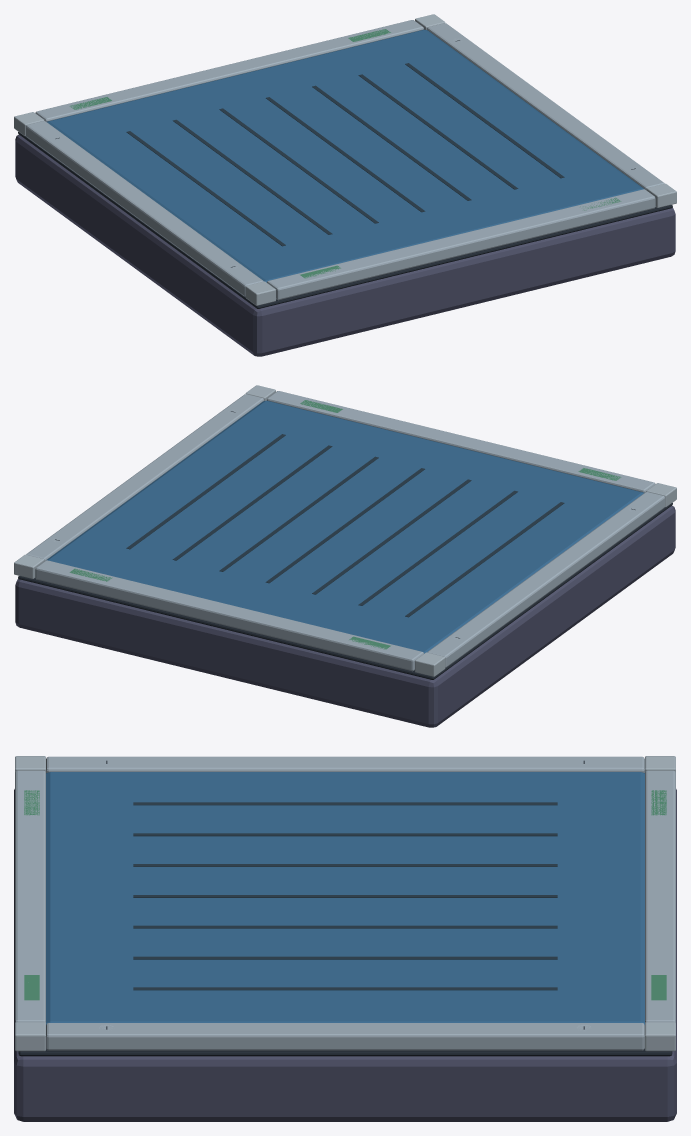
The model's file is platform.glb.
3 views of the same model, one above another, from view 1: azimuth 30°, elevation 25°; view 2: azimuth 150°, elevation 25°; view 3: azimuth 270°, elevation 25° (orthographic). The views are drawn at different scales.
Visible parts, largest first — view 1: platform; view 2: platform; view 3: platform.
Part boxes in pixels (<box>): platform: <box>14,14,676,356</box>; platform: <box>14,385,676,727</box>; platform: <box>14,756,676,1121</box>.
Bounding box in the file's own units: 1 × 0.15 × 1.
